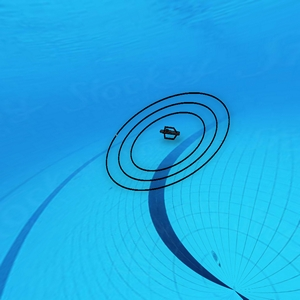circle: (106, 91, 232, 191)
submarine: (159, 125, 180, 141)
